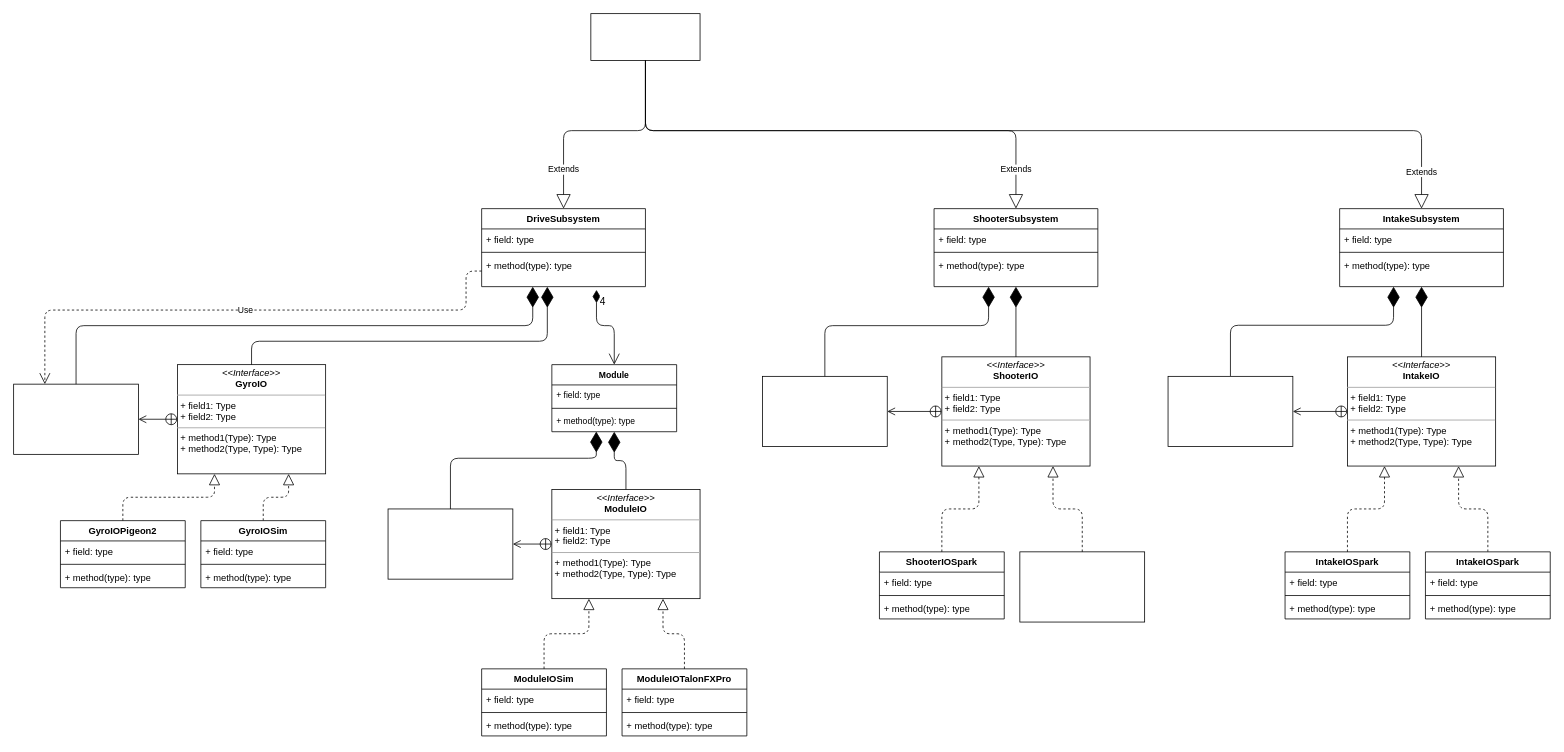
The diagram is 1564 pixels wide and 752 high, and some of its shapes have lost their labels. Each missing label, with the centre of its shape:
"G yroIOInputs + field: Type + method(): Type" goes at (x=75, y=418).
"Intake IOInputs + field: Type + method(): Type" goes at (x=1230, y=411).
"Module IOInputs + field: Type + method(): Type" goes at (x=450, y=543).
"ShooterIOInputs + field: Type + method(): Type" goes at (x=824, y=411).
"ShooterIOSim + field: Type + method(): Type" goes at (x=1082, y=586).
"Subsystem (wpilib)" goes at (x=645, y=36).
